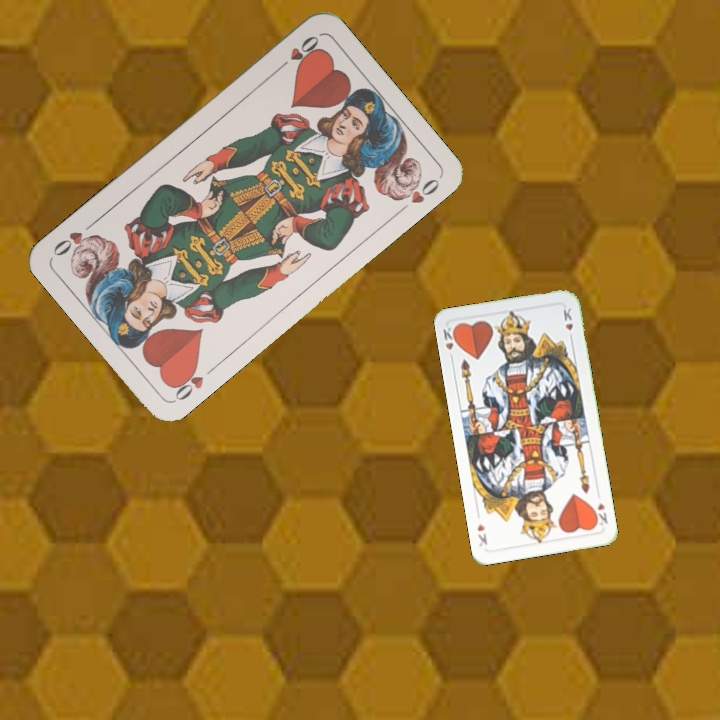HK: (439, 322, 461, 363), (589, 499, 610, 528)
HO: (166, 360, 220, 404), (272, 31, 322, 74)
